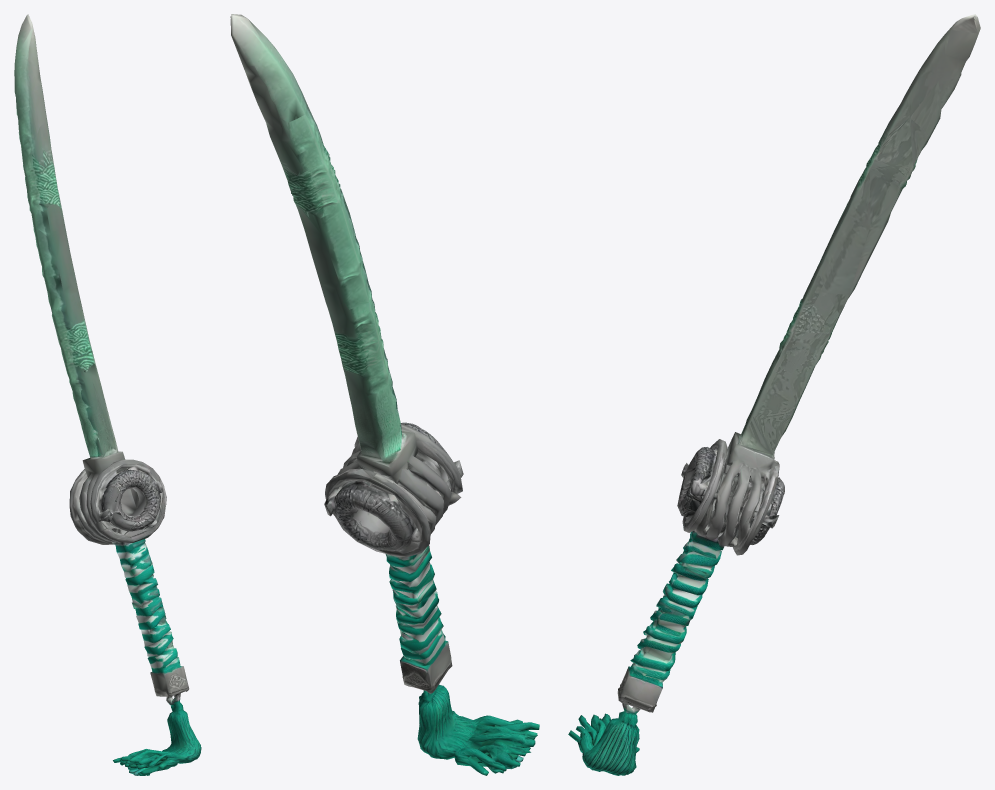
The model's file is prop_hayate_nodachi.glb.
The picture shows the model from 3 angles, left to right: view 1: azimuth 30°, elevation 25°; view 2: azimuth 150°, elevation 25°; view 3: azimuth 270°, elevation 25°; orthographic projection. The views are drawn at different scales.
Parts seen in each view (by area): view 1: tripo_node_e74a7346-39bb-4525-a202-9503d9ee5f98; view 2: tripo_node_e74a7346-39bb-4525-a202-9503d9ee5f98; view 3: tripo_node_e74a7346-39bb-4525-a202-9503d9ee5f98.
Part boxes in pixels (x1,y1,x2,y2): tripo_node_e74a7346-39bb-4525-a202-9503d9ee5f98: (14, 14, 201, 775); tripo_node_e74a7346-39bb-4525-a202-9503d9ee5f98: (230, 14, 539, 775); tripo_node_e74a7346-39bb-4525-a202-9503d9ee5f98: (568, 14, 980, 775).
Size of the model in its own units: 0.1363 by 0.9808 by 0.4817.
Materials: 1 (1 with a texture image).
